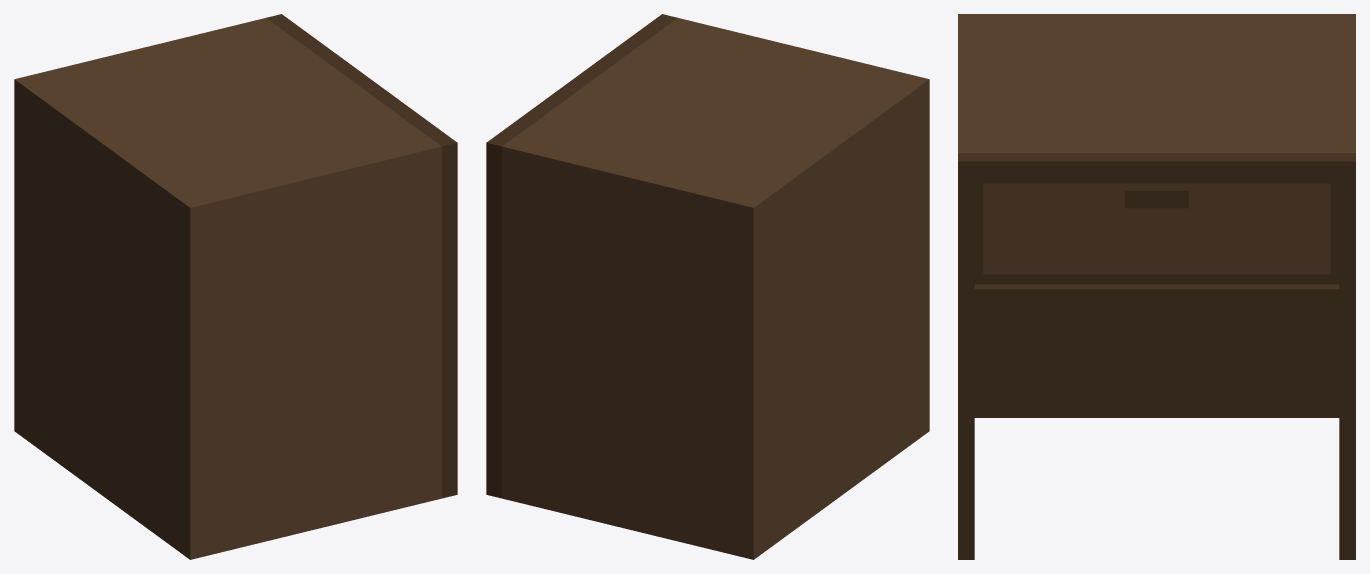
File: nightStand.fbx
The picture shows the model from 3 angles, left to right: view 1: azimuth 30°, elevation 25°; view 2: azimuth 150°, elevation 25°; view 3: azimuth 270°, elevation 25°; orthographic projection. The views are drawn at different scales.
Parts seen in each view (by area): view 1: nightstand; view 2: nightstand; view 3: nightstand, drawer.
Part boxes in pixels (left/top/right/bottom): nightstand: left=14, top=14, right=457, bottom=559; nightstand: left=486, top=14, right=929, bottom=559; nightstand: left=958, top=14, right=1355, bottom=559; drawer: left=974, top=175, right=1339, bottom=284.
Bounding box in the file's own units: 160 × 201 × 182.
